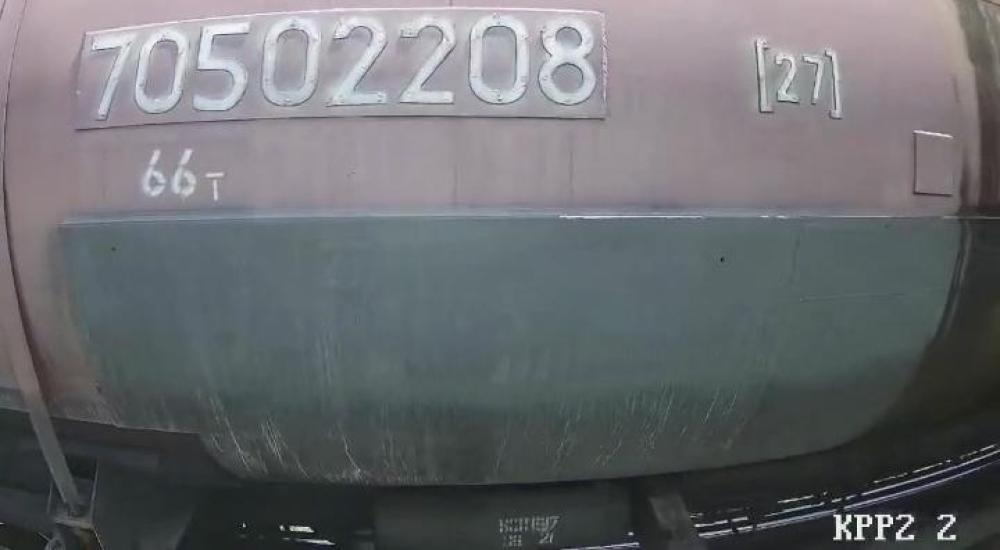Wagon-number: (82, 15, 605, 127)
